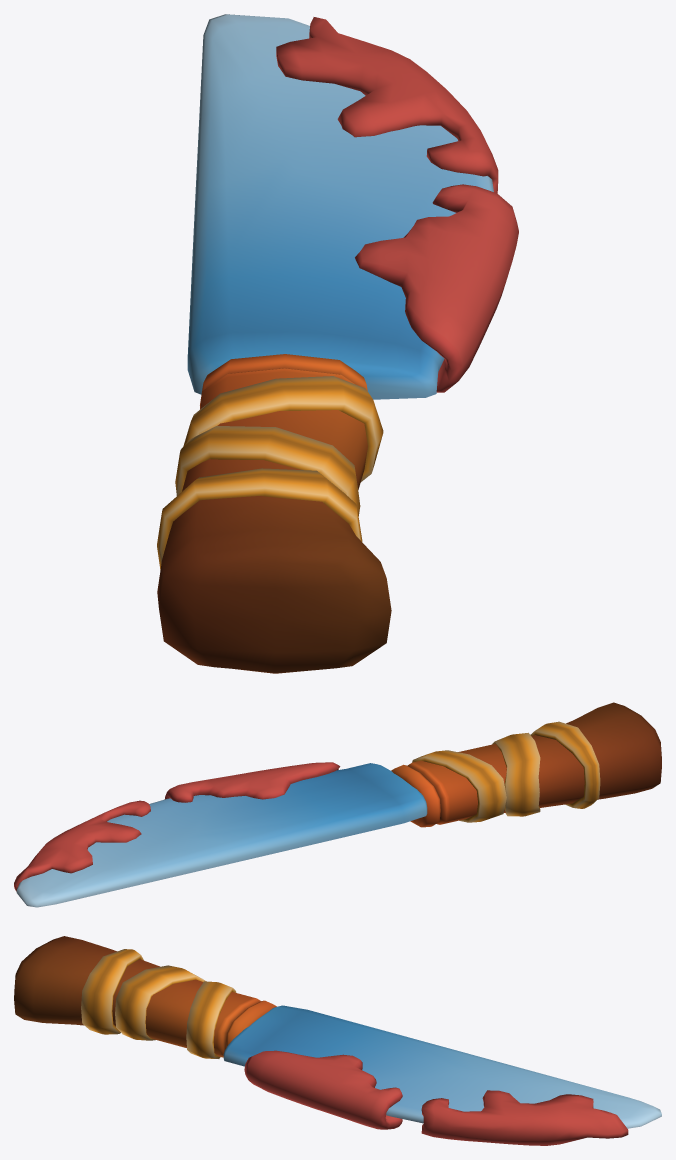
File: BloodyKnife_M.fbx
3 renders of one model, top to bottom at view 1: azimuth 30°, elevation 25°; view 2: azimuth 150°, elevation 25°; view 3: azimuth 270°, elevation 25°, orthographic. The views are drawn at different scales.
Parts seen in each view (by area): view 1: Badage Wrapping; view 2: Badage Wrapping; view 3: Badage Wrapping.
Boxes of the visible parts, x1,y1,x2,y2 form: Badage Wrapping: (157, 14, 518, 673); Badage Wrapping: (14, 702, 661, 907); Badage Wrapping: (14, 936, 661, 1145).
Size of the model in its own units: 94.71 by 16.96 by 145.
